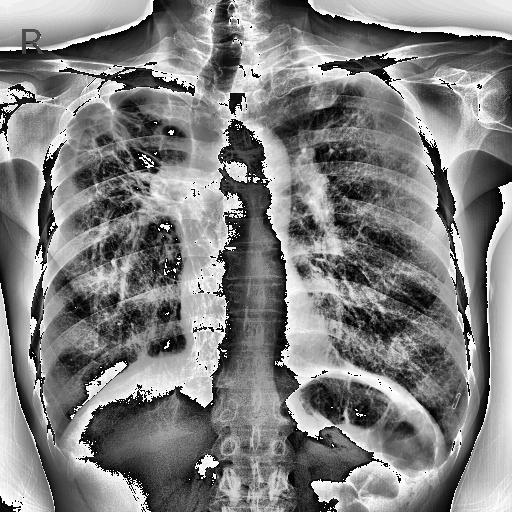1- Atelectasis: (79, 52, 200, 106)
11- Pleural thickening: (80, 61, 200, 110), (280, 38, 403, 82), (90, 60, 206, 106), (302, 46, 380, 76), (302, 49, 366, 73), (126, 344, 152, 364)
13- Pulmonary fibrosis: (62, 100, 202, 282), (56, 100, 187, 230), (66, 100, 190, 222), (292, 69, 358, 123), (314, 68, 358, 101)
9- Other lesion: (184, 62, 241, 176)
